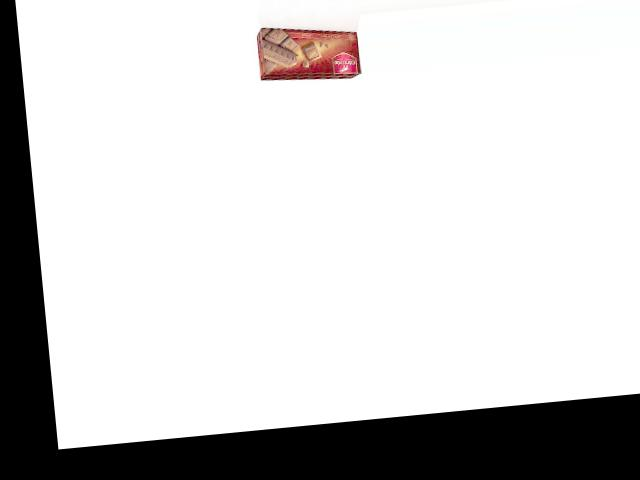chocolate: (257, 17, 362, 87)
